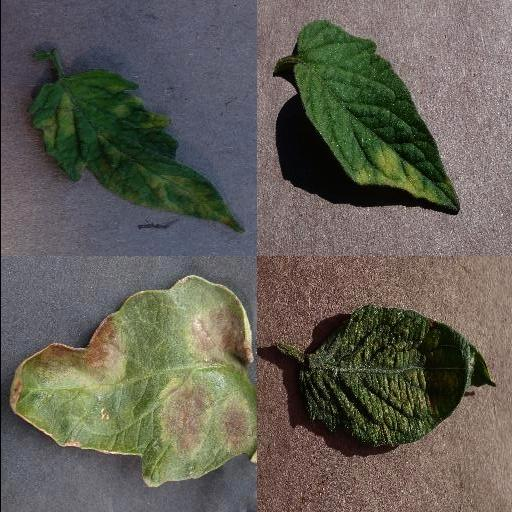Late Blight: (10, 274, 256, 488)
Leaf Mold: (26, 71, 246, 233), (292, 19, 460, 213)
Spider Mites: (297, 305, 495, 447)
